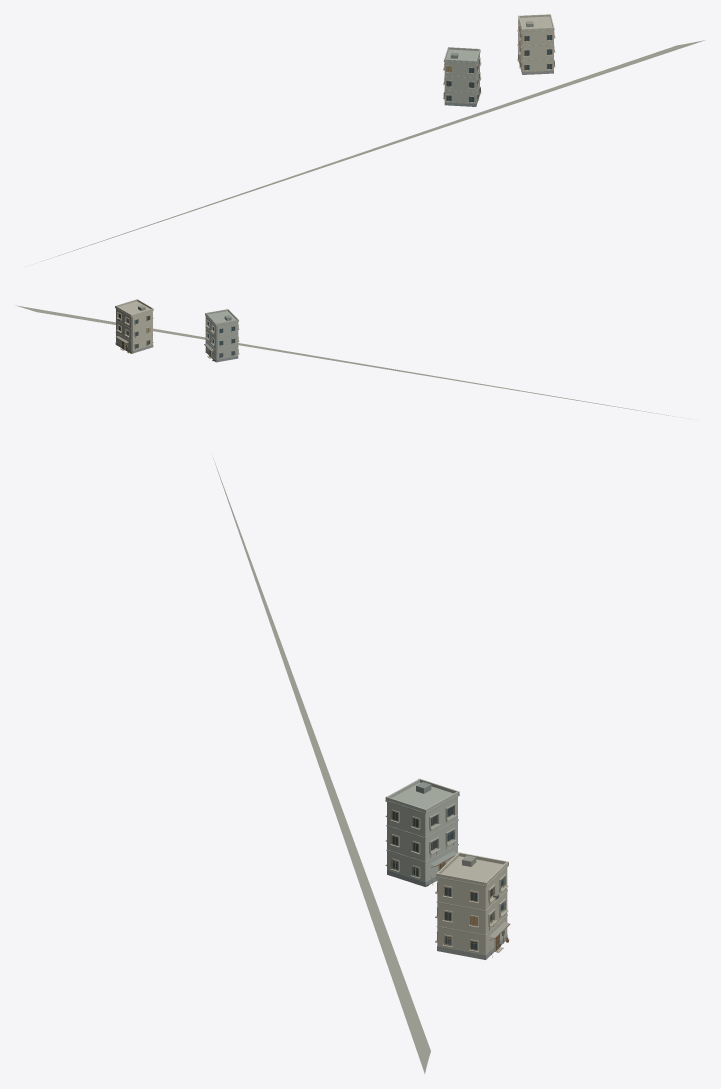
Rendered from street_3_7.glb.
3 views of the same model, one above another, from view 1: azimuth 30°, elevation 25°; view 2: azimuth 150°, elevation 25°; view 3: azimuth 270°, elevation 25° (orthographic). The views are drawn at different scales.
Visible parts, largest first — view 1: plaster.040, ground.054, trim.040, wood.040; view 2: plaster.040, ground.054, trim.040, wood.040, glass.040; view 3: plaster.040, ground.054, trim.040, wood.040.
Part boxes in pixels (<box>): plaster.040: <box>444,14,554,103</box>; ground.054: <box>40,40,705,261</box>; trim.040: <box>443,16,555,103</box>; wood.040: <box>444,24,554,102</box>; plaster.040: <box>115,299,238,359</box>; ground.054: <box>15,305,692,419</box>; trim.040: <box>115,301,239,358</box>; wood.040: <box>116,313,238,357</box>; glass.040: <box>118,314,234,357</box>; plaster.040: <box>385,778,508,954</box>; ground.054: <box>213,457,430,1073</box>; trim.040: <box>385,782,508,952</box>; wood.040: <box>391,806,503,954</box>.
Bounding box in the file's own units: 173 × 10.42 × 35.13.
